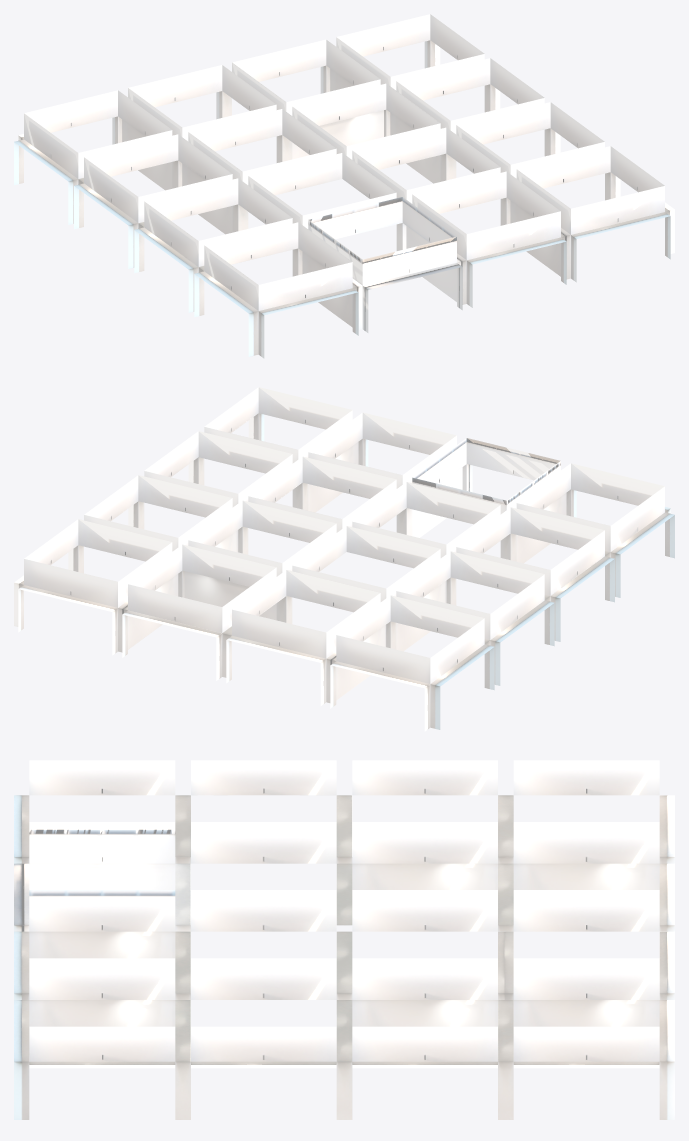
File: walls.glb
The picture shows the model from 3 angles, top to bottom: view 1: azimuth 30°, elevation 25°; view 2: azimuth 150°, elevation 25°; view 3: azimuth 270°, elevation 25°; orthographic projection. The views are drawn at different scales.
Visible parts, largest first — view 1: walls; view 2: walls; view 3: walls.
Part boxes in pixels (x1,y1,x2,y2): walls: [14, 14, 674, 358]; walls: [14, 387, 674, 731]; walls: [14, 760, 674, 1119].
Size of the model in its own units: 51.2 by 8 by 51.2.
1 material, 1 textured.
